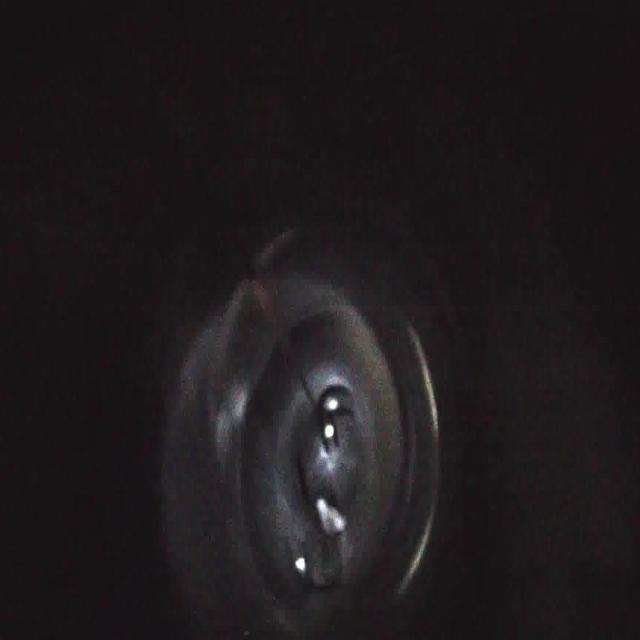impurity: (309, 532, 352, 597), (306, 496, 350, 536)
